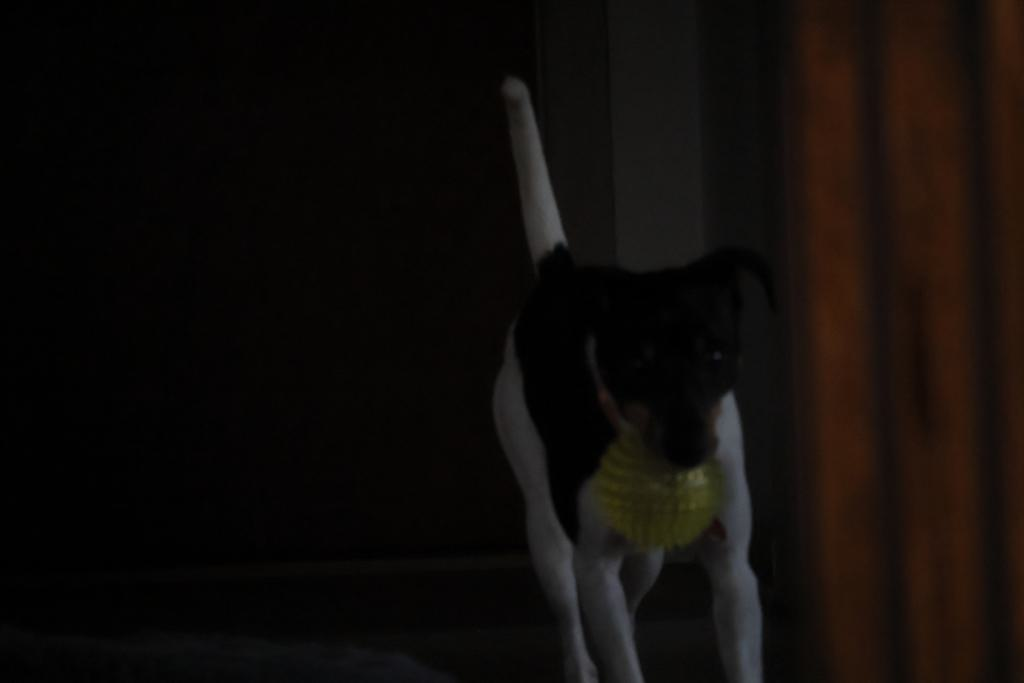Dog: (461, 63, 784, 683)
